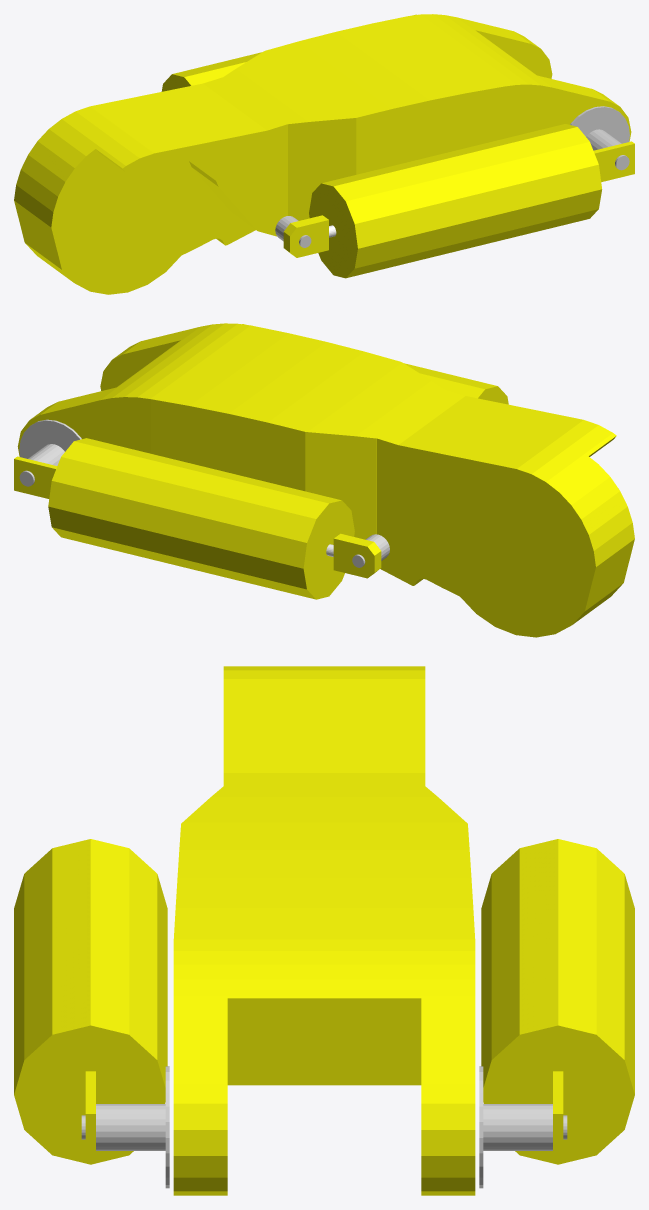
3 renders of one model, top to bottom at view 1: azimuth 30°, elevation 25°; view 2: azimuth 150°, elevation 25°; view 3: azimuth 270°, elevation 25°, orthographic. The views are drawn at different scales.
Parts seen in each view (by area): view 1: node; view 2: node; view 3: node.
Boxes of the visible parts, <box> form: node: <box>14,14,634,294</box>; node: <box>14,323,634,637</box>; node: <box>14,666,634,1195</box>.
Bounding box in the file's own units: 1205 × 342 × 771.
